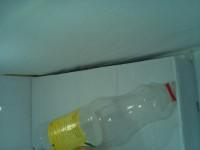bottle: (32, 81, 180, 150)
